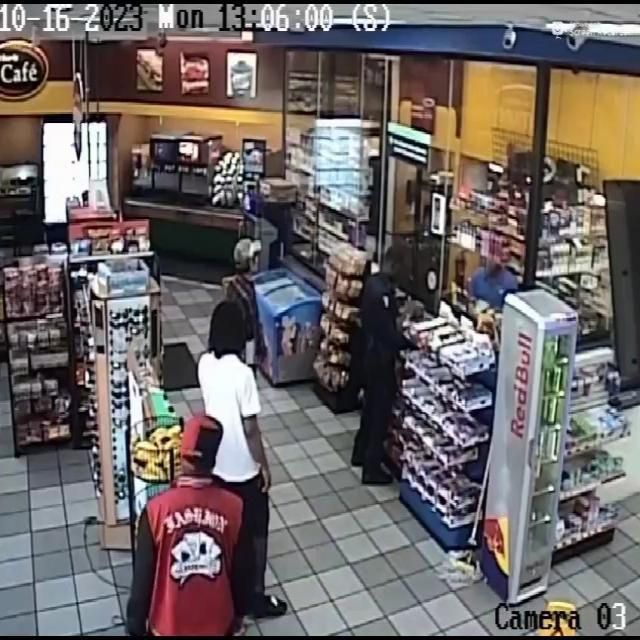Normal: (196, 299, 296, 625), (135, 423, 255, 640), (344, 213, 413, 494), (212, 220, 286, 358)
